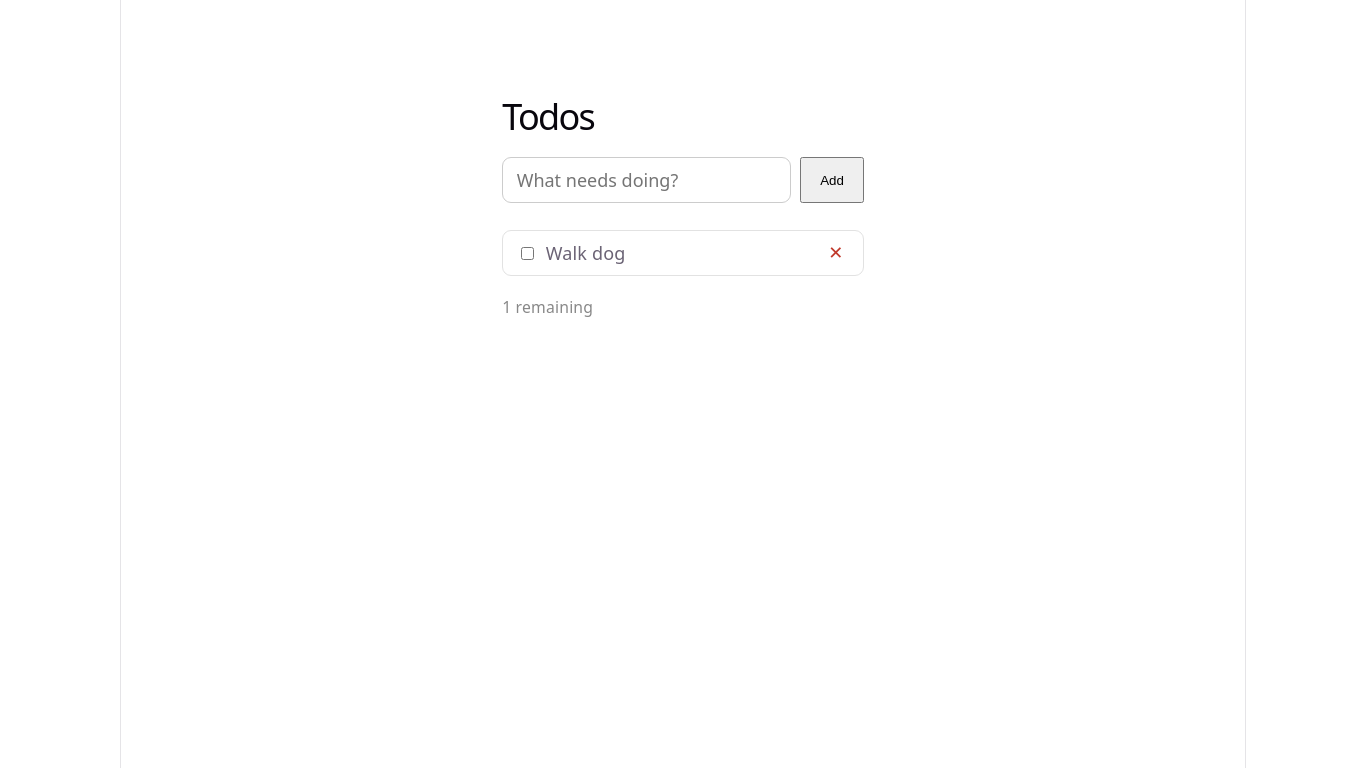
<App /> › toggles a todo as done
Click the checkbox. click: [527, 253]
box: [521,247,534,260]
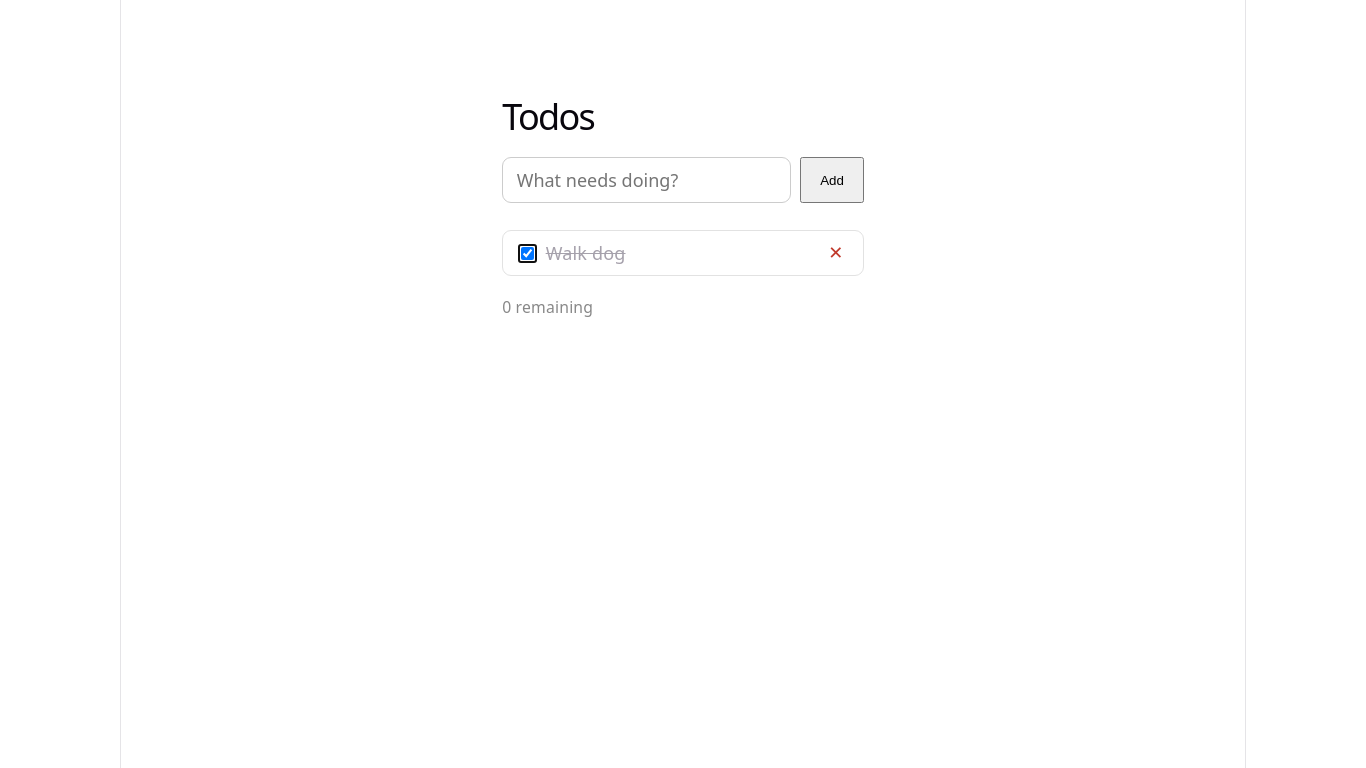
Expected: the text "0 remaining" is shown, [502,296,593,318]
